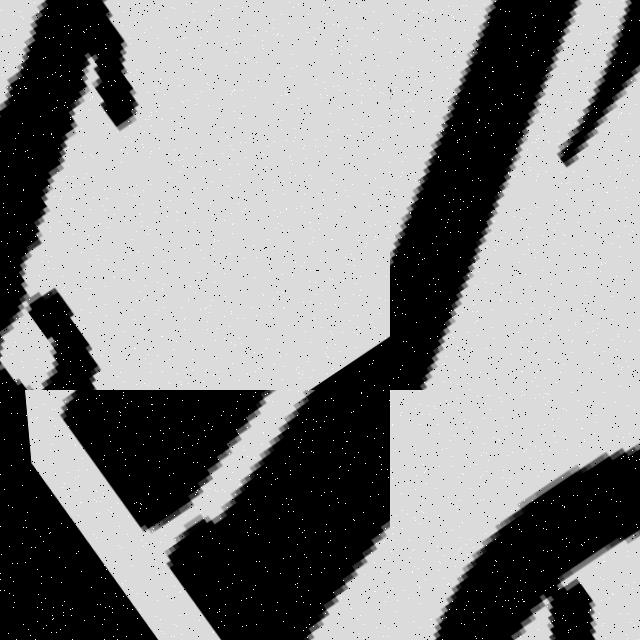9: (390, 390, 640, 640)
J: (0, 0, 390, 390)
N: (0, 390, 390, 640)
Z: (390, 0, 640, 390)
